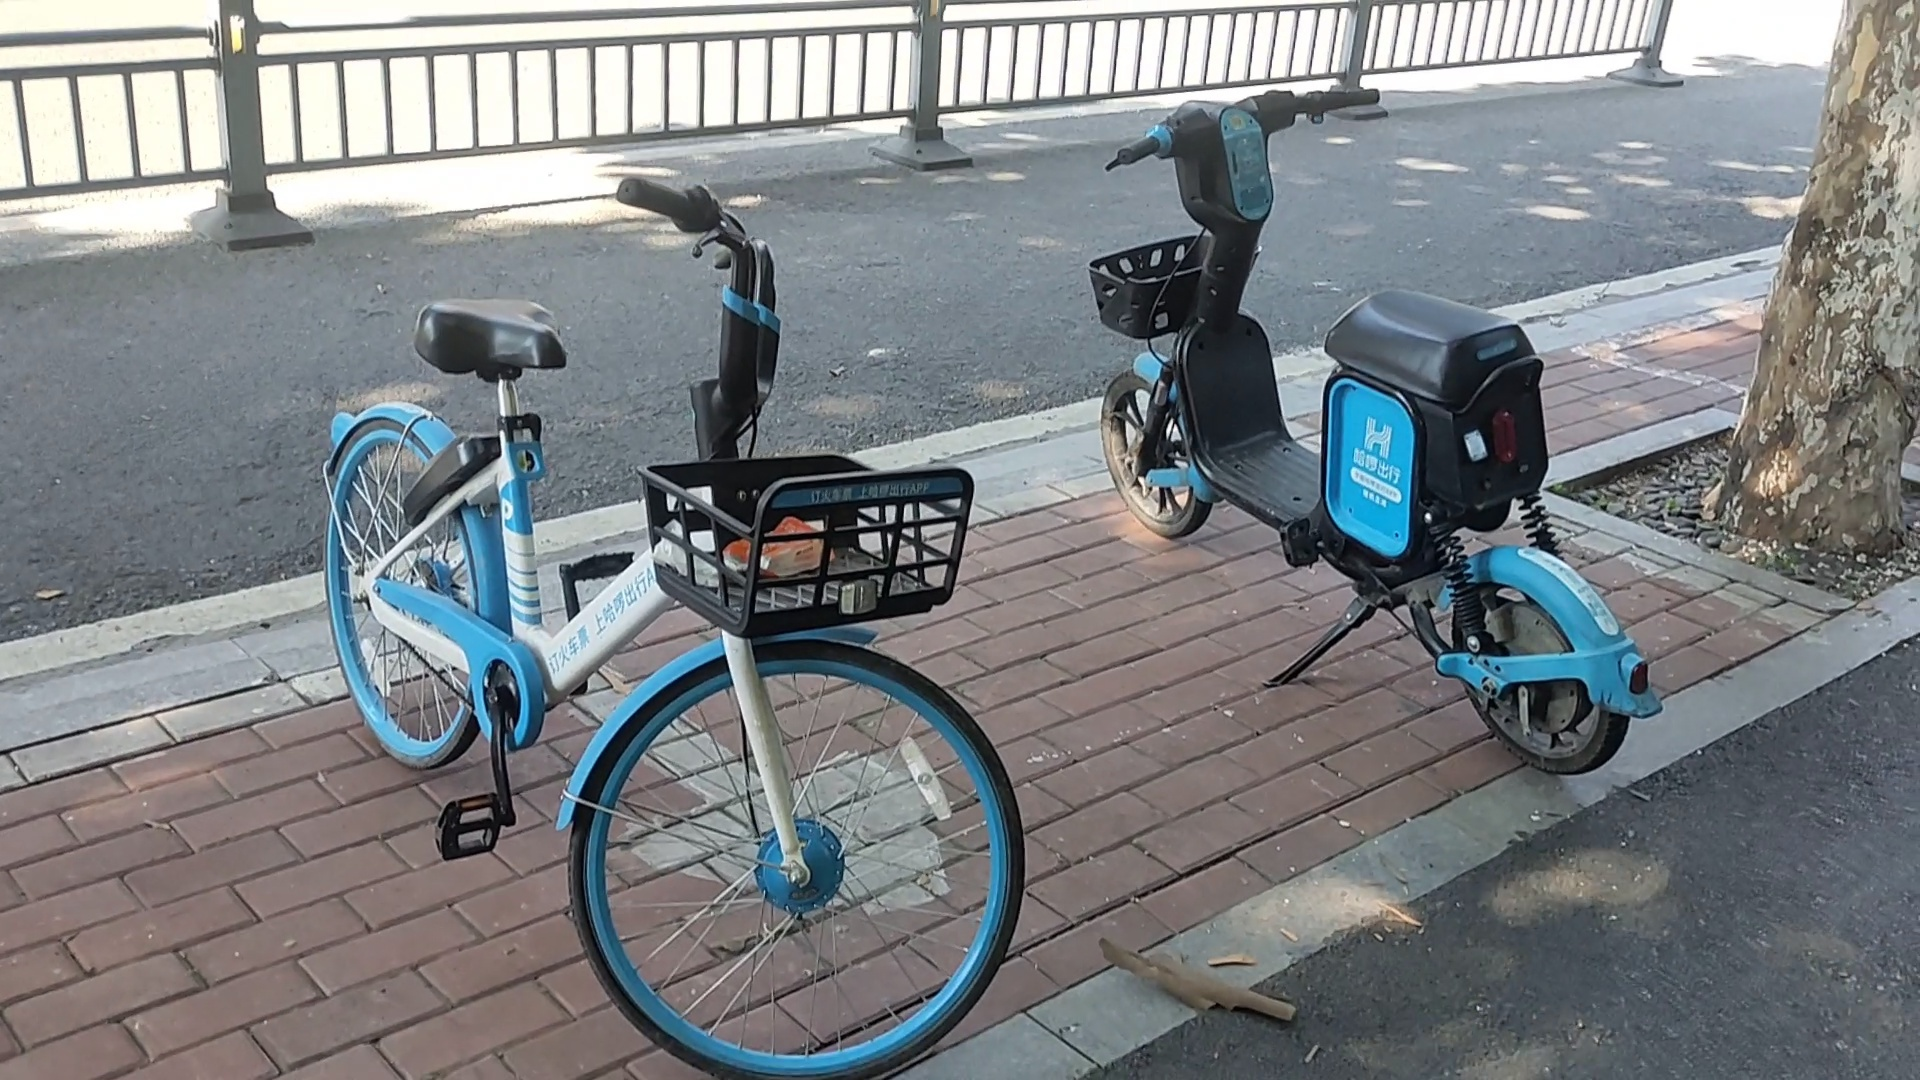non-vehicle: (320, 133, 1011, 1060), (1088, 76, 1659, 800)
